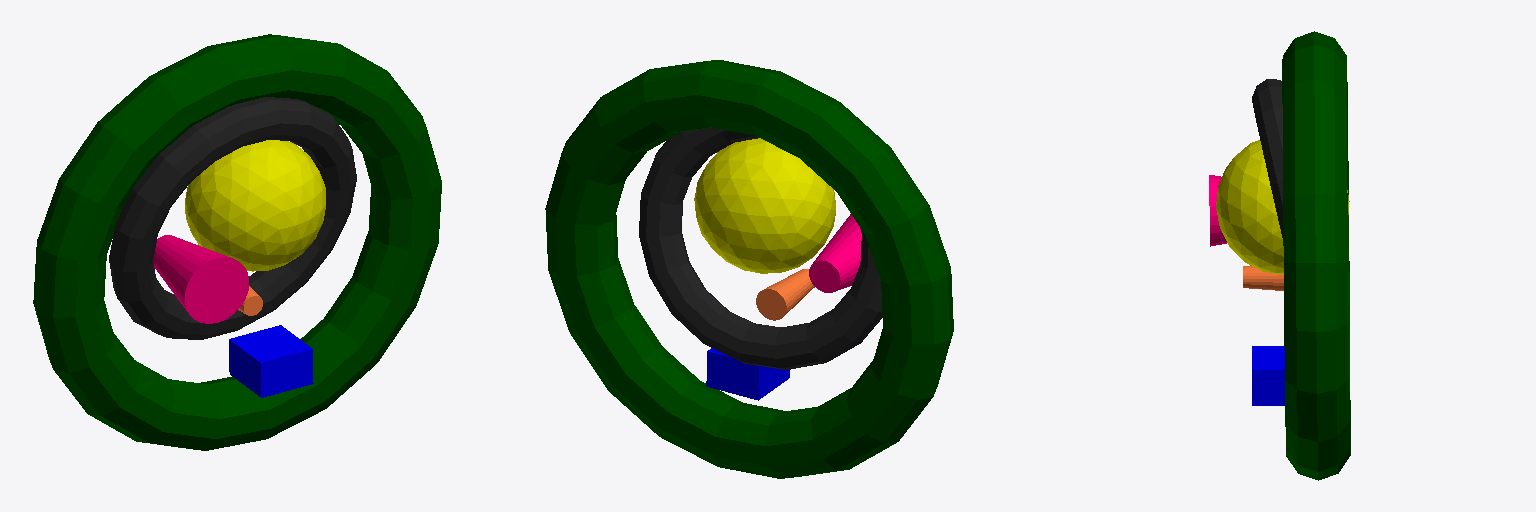
Rendered from dirt_tmp.obj.
3 views of the same model, side by side, from view 1: azimuth 30°, elevation 25°; view 2: azimuth 150°, elevation 25°; view 3: azimuth 270°, elevation 25° (orthographic).
Parts seen in each view (by area): view 1: Torus01, Torus02, GeoSphere0, Cone02, Box01; view 2: Torus01, Torus02, GeoSphere0, Cone02, Box01, Cone01; view 3: Torus01, GeoSphere0, Torus02, Box01, Cone01, Cone02.
Boxes of the visible parts, x1=… form: Torus01: x1=33, y1=34, x2=441, y2=450; Torus02: x1=109, y1=97, x2=356, y2=339; GeoSphere0: x1=185, y1=140, x2=325, y2=271; Cone02: x1=153, y1=235, x2=248, y2=323; Box01: x1=229, y1=325, x2=313, y2=397; Torus01: x1=545, y1=60, x2=953, y2=478; Torus02: x1=639, y1=128, x2=882, y2=369; GeoSphere0: x1=694, y1=138, x2=835, y2=273; Cone02: x1=809, y1=214, x2=861, y2=292; Box01: x1=706, y1=348, x2=790, y2=400; Cone01: x1=756, y1=269, x2=814, y2=320; Torus01: x1=1282, y1=31, x2=1350, y2=480; GeoSphere0: x1=1216, y1=140, x2=1349, y2=273; Torus02: x1=1252, y1=79, x2=1282, y2=237; Box01: x1=1252, y1=346, x2=1284, y2=405; Cone01: x1=1243, y1=265, x2=1283, y2=290; Cone02: x1=1209, y1=175, x2=1226, y2=246.
Bounding box in the file's own units: 0.8778 × 0.8411 × 0.2679.